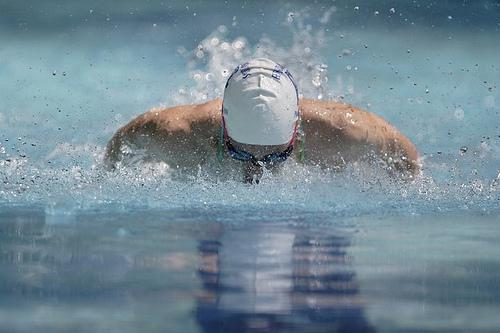human: (100, 56, 424, 186)
